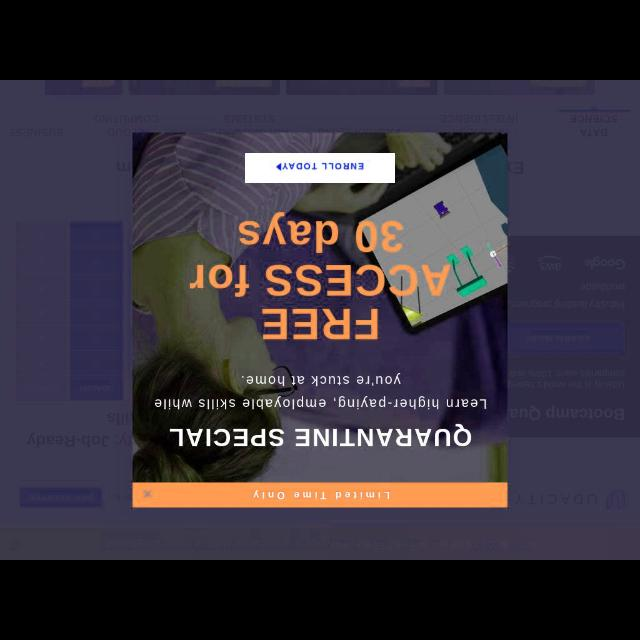icon: (142, 486, 152, 500), (276, 162, 282, 172)
iframe: (132, 135, 508, 510), (2, 528, 636, 558)
image: (12, 220, 124, 402), (512, 486, 628, 514), (580, 253, 628, 271), (534, 253, 566, 271)
text: (190, 215, 448, 342), (152, 376, 488, 408), (170, 424, 474, 448), (107, 538, 543, 552), (20, 409, 130, 448), (509, 282, 629, 310), (508, 367, 626, 391), (510, 401, 626, 421), (436, 110, 526, 132), (252, 488, 394, 500), (210, 114, 288, 134), (568, 110, 618, 140), (314, 120, 400, 136), (90, 116, 158, 136), (24, 488, 94, 504), (5, 124, 65, 140), (524, 332, 592, 346), (284, 162, 366, 172)
textbutton: (245, 148, 397, 186), (510, 321, 626, 354), (18, 486, 102, 506)
